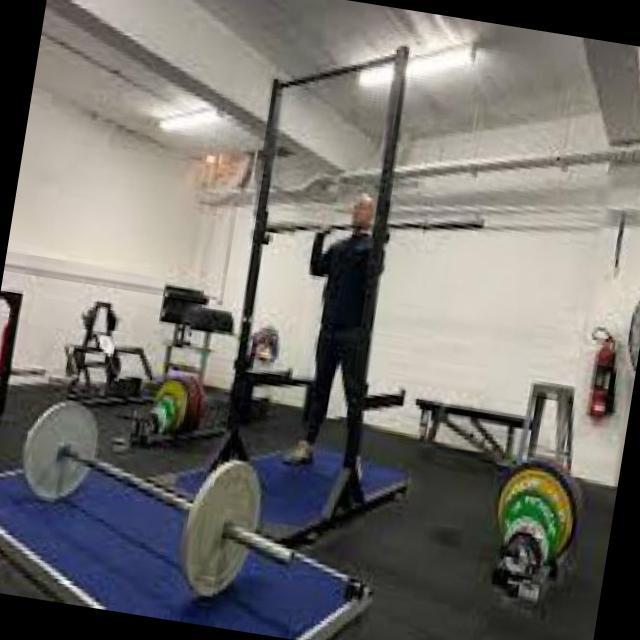barbell: (165, 445, 282, 612)
